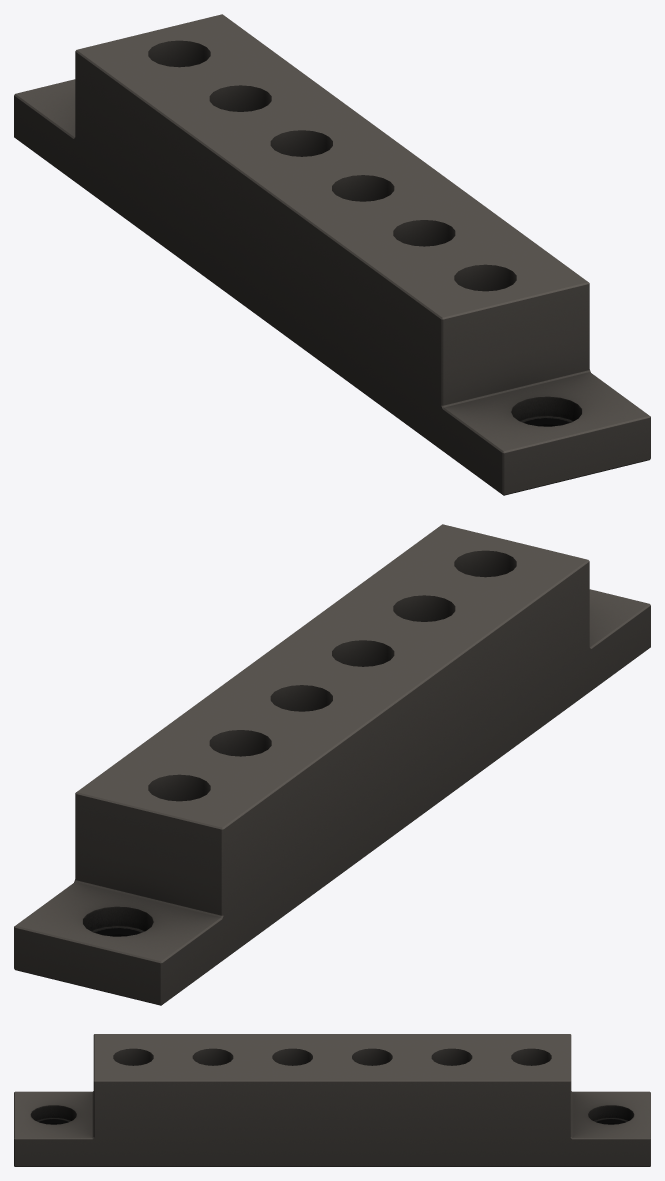
File: Klotz.obj
3 views of the same model, one above another, from view 1: azimuth 30°, elevation 25°; view 2: azimuth 150°, elevation 25°; view 3: azimuth 270°, elevation 25° (orthographic). The views are drawn at different scales.
Visible parts, largest first — view 1: Klotz:pasted__transform1group; view 2: Klotz:pasted__transform1group; view 3: Klotz:pasted__transform1group.
Boxes of the visible parts, left/top/right/bottom form: Klotz:pasted__transform1group: left=14, top=14, right=650, bottom=495; Klotz:pasted__transform1group: left=14, top=524, right=650, bottom=1005; Klotz:pasted__transform1group: left=14, top=1034, right=650, bottom=1166.
Size of the model in its own units: 35 by 30 by 200.
Materials: 1 (1 with a texture image).
